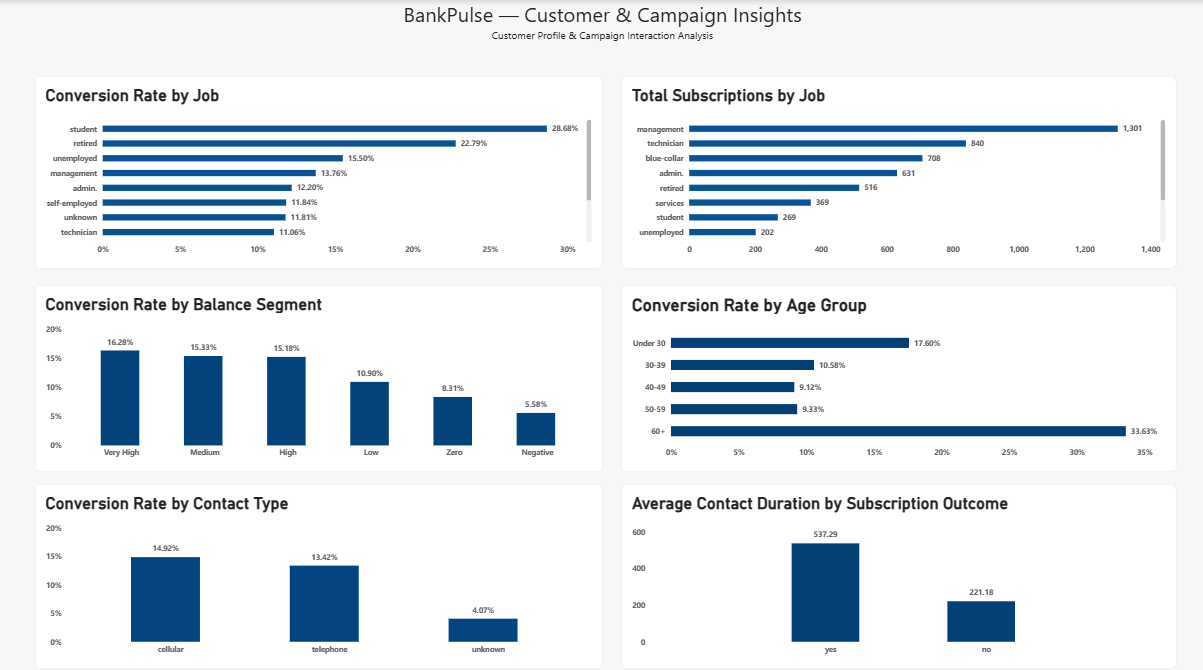

The dashboard page shown, as its layout file describes it:
{"tool":"powerbi","page":{"name":"Customer & Campaign Insights","canvas":[1920,1080],"ordinal":1},"visuals":[{"type":"clusteredBarChart","title":"Conversion Rate by Job","fields":{"Category":["Bank Marketing.job"],"Y":["Bank Marketing.Conversion Rate"]},"box":[57.5,122.5,902.5,305],"z":0},{"type":"clusteredColumnChart","title":"Conversion Rate by Balance Segment","fields":{"Category":["Bank Marketing.Balance Segment"],"Y":["Bank Marketing.Conversion Rate"]},"box":[57.5,452.5,902.5,297.5],"z":1000},{"type":"clusteredColumnChart","title":"Conversion Rate by Contact Type","fields":{"Category":["Bank Marketing.contact_type"],"Y":["Bank Marketing.Conversion Rate"]},"box":[57.5,770,902.5,292.5],"z":3000},{"type":"clusteredColumnChart","title":"Average Contact Duration by Subscription Outcome","fields":{"Category":["Bank Marketing.subscribed"],"Y":["Avg(Bank Marketing.contact_duration)"]},"box":[990,770,882.5,292.5],"z":4000},{"type":"clusteredBarChart","title":"Conversion Rate by Age Group","fields":{"Category":["Bank Marketing.Age Group"],"Y":["Bank Marketing.Conversion Rate"]},"box":[990,452.5,882.5,297.5],"z":5000},{"type":"textbox","box":[0,0,1920,45],"z":5001},{"type":"textbox","box":[0,45,1920,25],"z":5002},{"type":"clusteredBarChart","title":"Total Subscriptions by Job","fields":{"Category":["Bank Marketing.job"],"Y":["Bank Marketing.Total Subscriptions"]},"box":[990,122.5,882.5,305],"z":5003}]}

Visuals, with their boxes in screenshot pixels (x1, y1, x2, y2), scaled from the page's 1920x1080 canvas onto the 1203x670 screenshot:
"Conversion Rate by Job" clusteredBarChart: rect(36, 76, 602, 265)
"Conversion Rate by Balance Segment" clusteredColumnChart: rect(36, 281, 602, 465)
"Conversion Rate by Contact Type" clusteredColumnChart: rect(36, 478, 602, 659)
"Average Contact Duration by Subscription Outcome" clusteredColumnChart: rect(620, 478, 1173, 659)
"Conversion Rate by Age Group" clusteredBarChart: rect(620, 281, 1173, 465)
textbox: rect(0, 0, 1202, 28)
textbox: rect(0, 28, 1202, 43)
"Total Subscriptions by Job" clusteredBarChart: rect(620, 76, 1173, 265)
